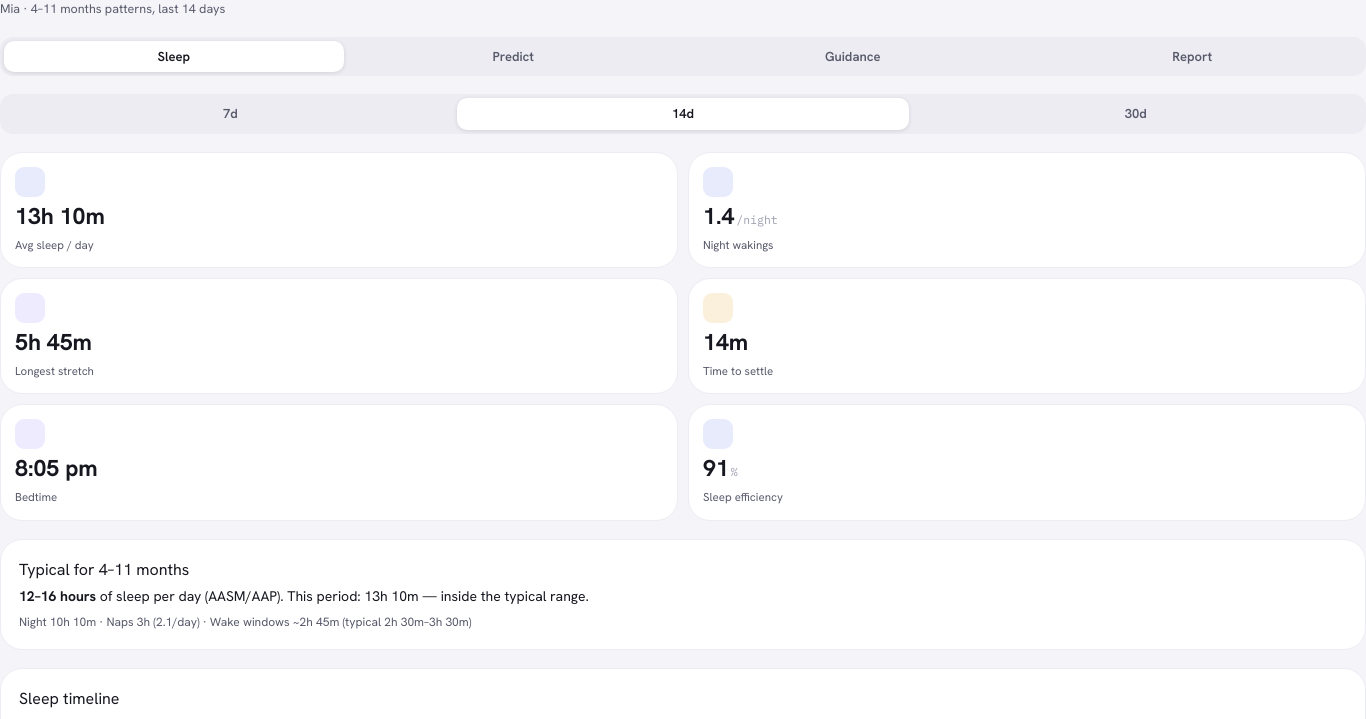
Test case: InsightsScreen › Report view offers the printable report and CSV download
Expected: the text "13h 10m" is shown, top-left (15, 201), bottom-right (105, 231)
Click the button "Report" at (1192, 57), box top-left (1022, 41), bottom-right (1362, 72)
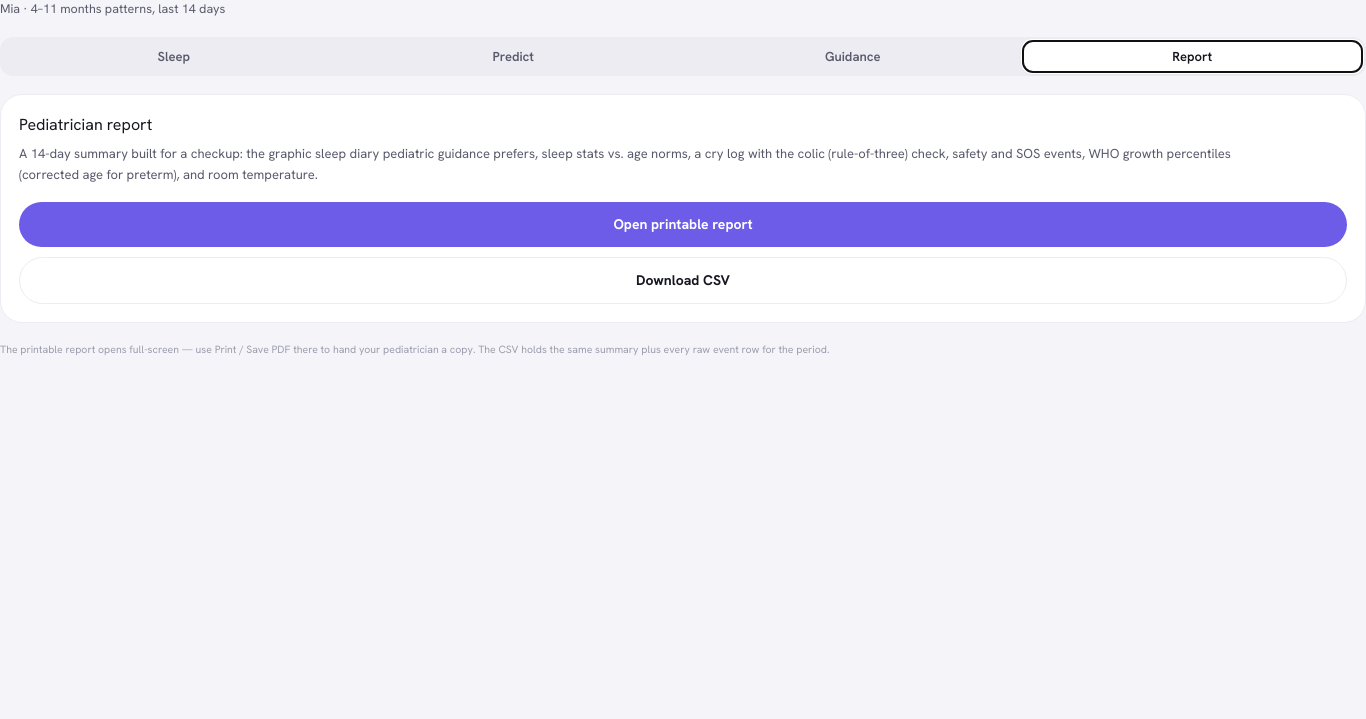
Expected: the button "Open printable report" is shown, top-left (19, 202), bottom-right (1347, 246)
Expected: the button "Download CSV" is shown, top-left (19, 256), bottom-right (1347, 304)
